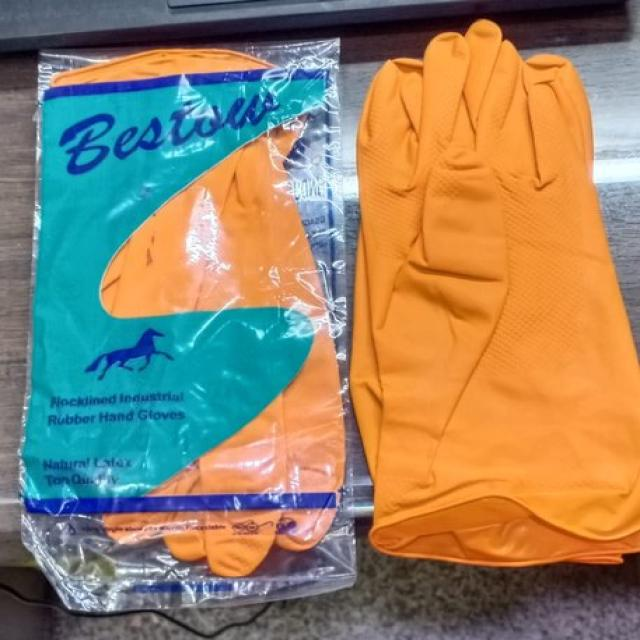gloves: (351, 19, 640, 568)
